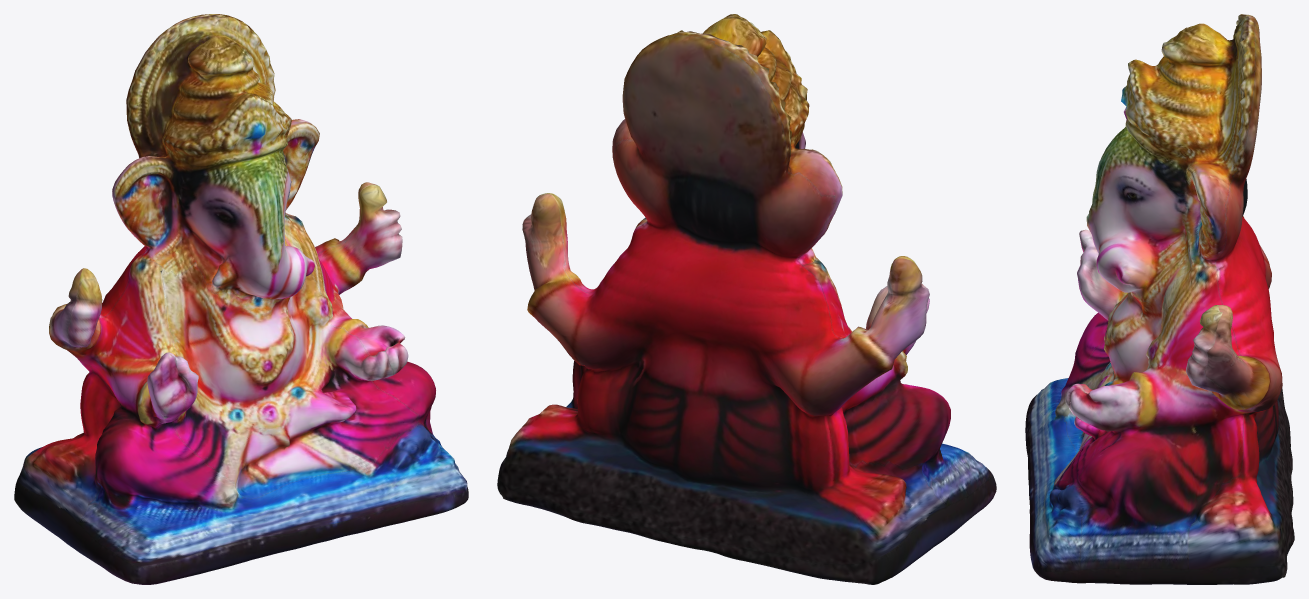
3 views of the same model, side by side, from view 1: azimuth 30°, elevation 25°; view 2: azimuth 150°, elevation 25°; view 3: azimuth 270°, elevation 25° (orthographic). The views are drawn at different scales.
Visible parts, largest first — view 1: Ganesh_Color_End_LR; view 2: Ganesh_Color_End_LR; view 3: Ganesh_Color_End_LR.
Part boxes in pixels (x1=…): Ganesh_Color_End_LR: x1=14, y1=14, x2=468, y2=584; Ganesh_Color_End_LR: x1=497, y1=14, x2=996, y2=584; Ganesh_Color_End_LR: x1=1025, y1=14, x2=1294, y2=584.
Size of the model in its own units: 25.91 by 31.51 by 16.26.
1 material, 1 textured.
